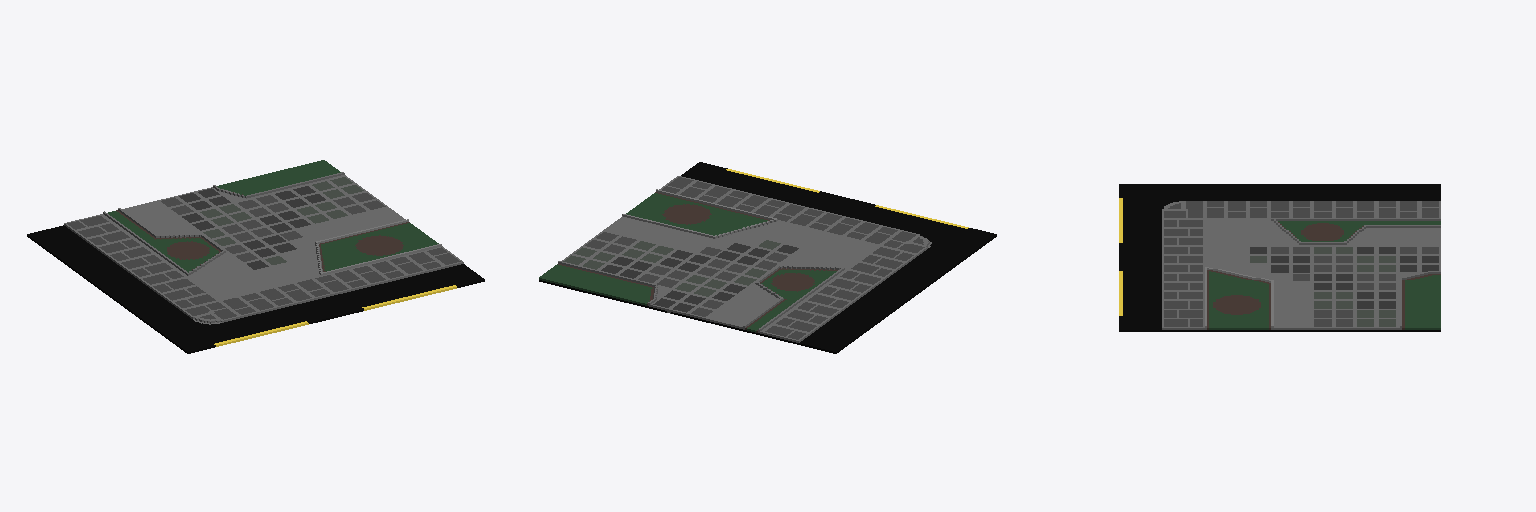
The picture shows the model from 3 angles: view 1: azimuth 30°, elevation 25°; view 2: azimuth 150°, elevation 25°; view 3: azimuth 270°, elevation 25°; orthographic projection.
Visible parts, largest first — view 1: Content; view 2: Content; view 3: Content.
Part boxes in pixels (bbox=[...]): Content: bbox=[27, 160, 484, 353]; Content: bbox=[539, 162, 996, 353]; Content: bbox=[1119, 184, 1440, 331].
Size of the model in its own units: 24 by 0.45 by 22.5.
Materials: 1 (1 with a texture image).